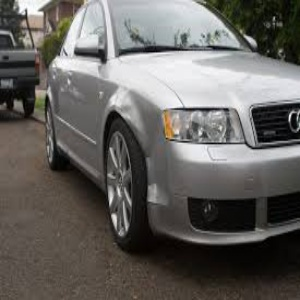bumper_scratch: (145, 171, 178, 237)
